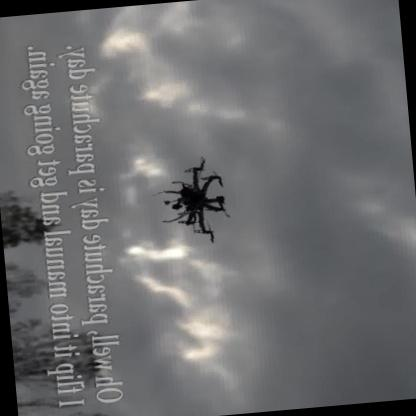drone: (146, 153, 243, 250)
